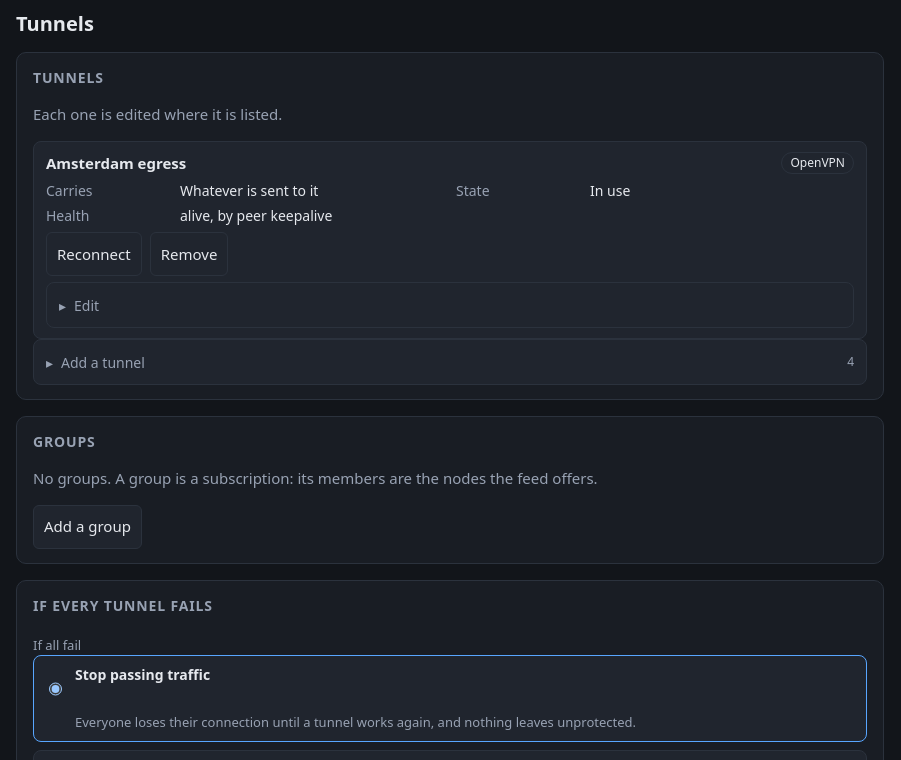
Test: reconnecting a tunnel by hand › is offered beside a running tunnel, restarts that one, and says what the device said when it did not come back
Click the button "Reconnect" at (94, 254), box [46, 232, 142, 276]
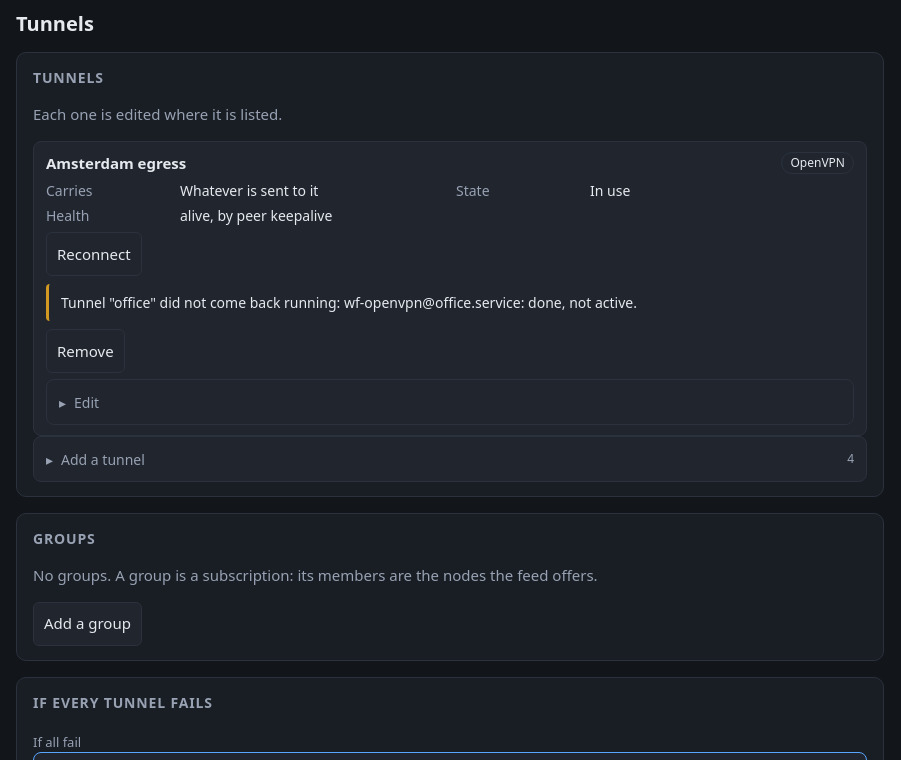
Expected: the text "did not come back running" is shown, [61, 293, 637, 312]
